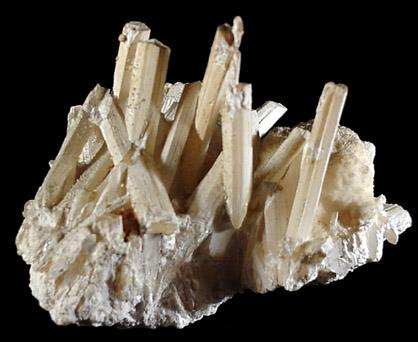gypsum: (42, 17, 348, 248)
